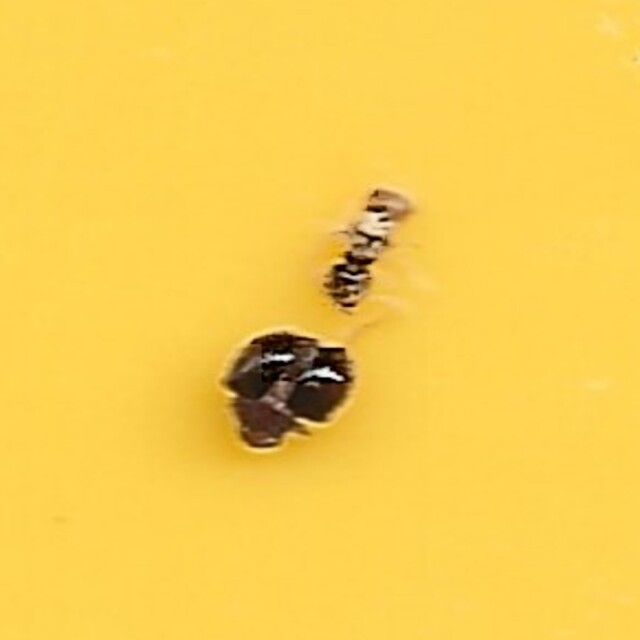Coleoptera: (220, 326, 356, 455)
Hemiptera: (306, 185, 420, 316)
